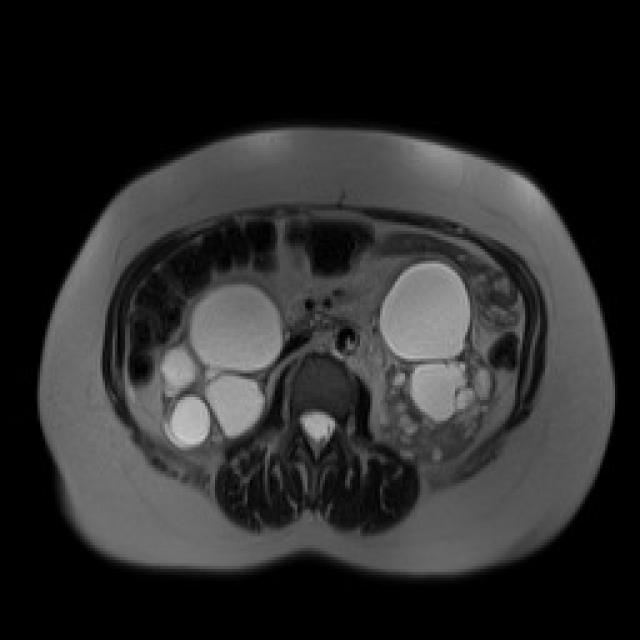sag: (159, 278, 288, 457)
sol: (377, 256, 497, 466)
